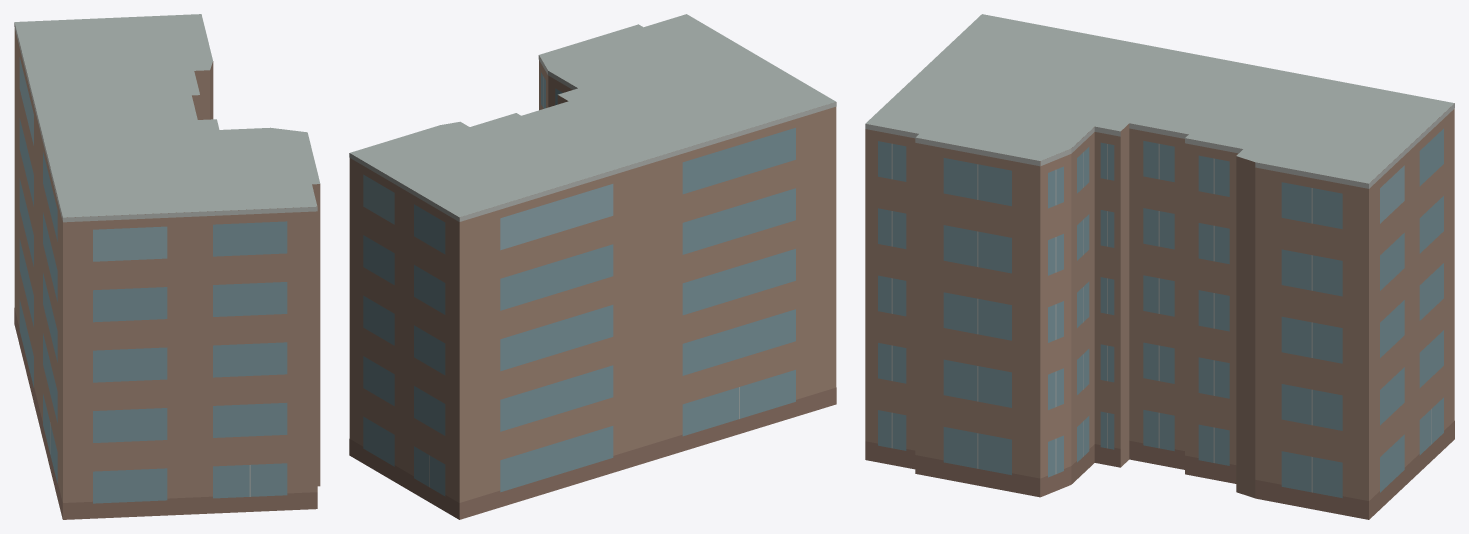
File: survey-upis-32919792.glb
3 renders of one model, left to right at view 1: azimuth 30°, elevation 25°; view 2: azimuth 150°, elevation 25°; view 3: azimuth 270°, elevation 25°, orthographic. The views are drawn at different scales.
Visible parts, largest first — view 1: survey-upis-32919792.tmp; view 2: survey-upis-32919792.tmp; view 3: survey-upis-32919792.tmp.
Part boxes in pixels (x1,y1,x2,y2): survey-upis-32919792.tmp: (14,14,320,519); survey-upis-32919792.tmp: (349,14,836,519); survey-upis-32919792.tmp: (865,14,1454,519).
Size of the model in its own units: 17 by 15.7 by 24.96.
